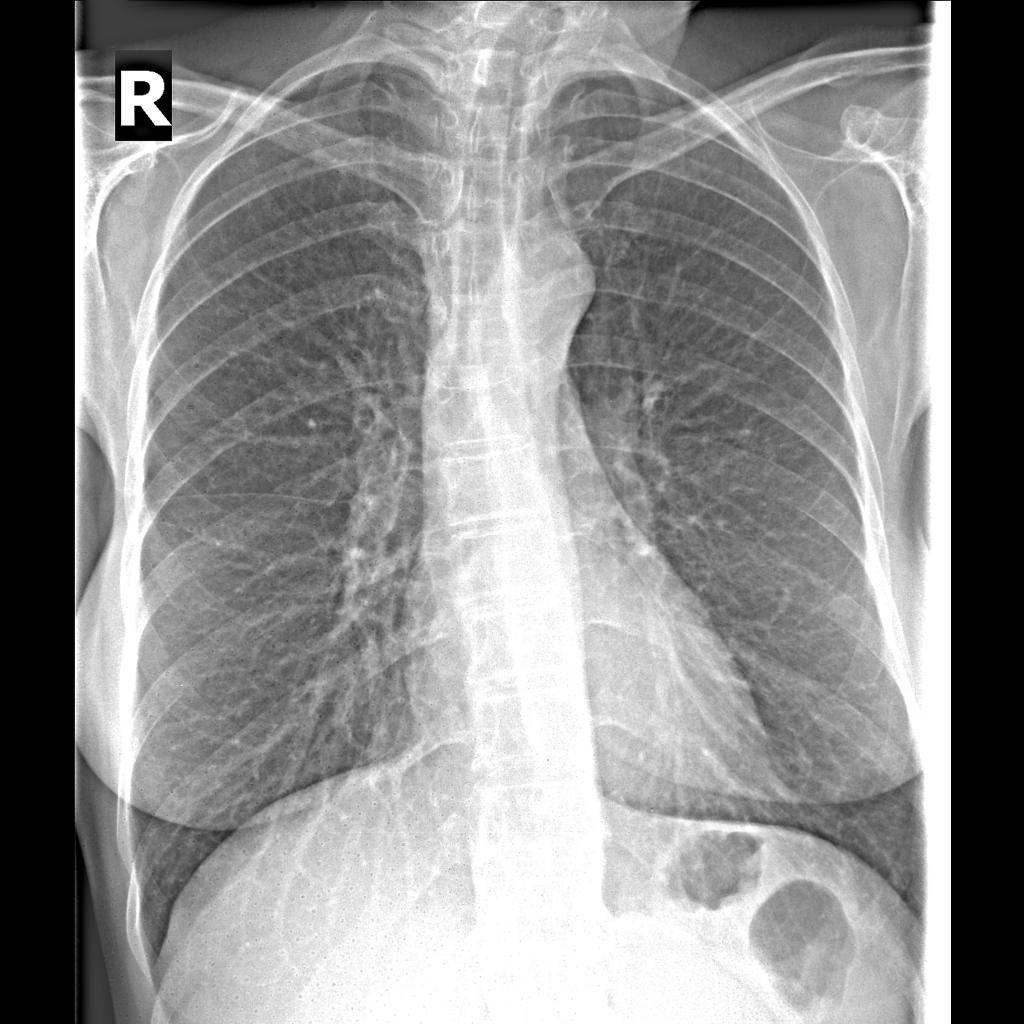Nodule: (812, 574, 868, 639)
